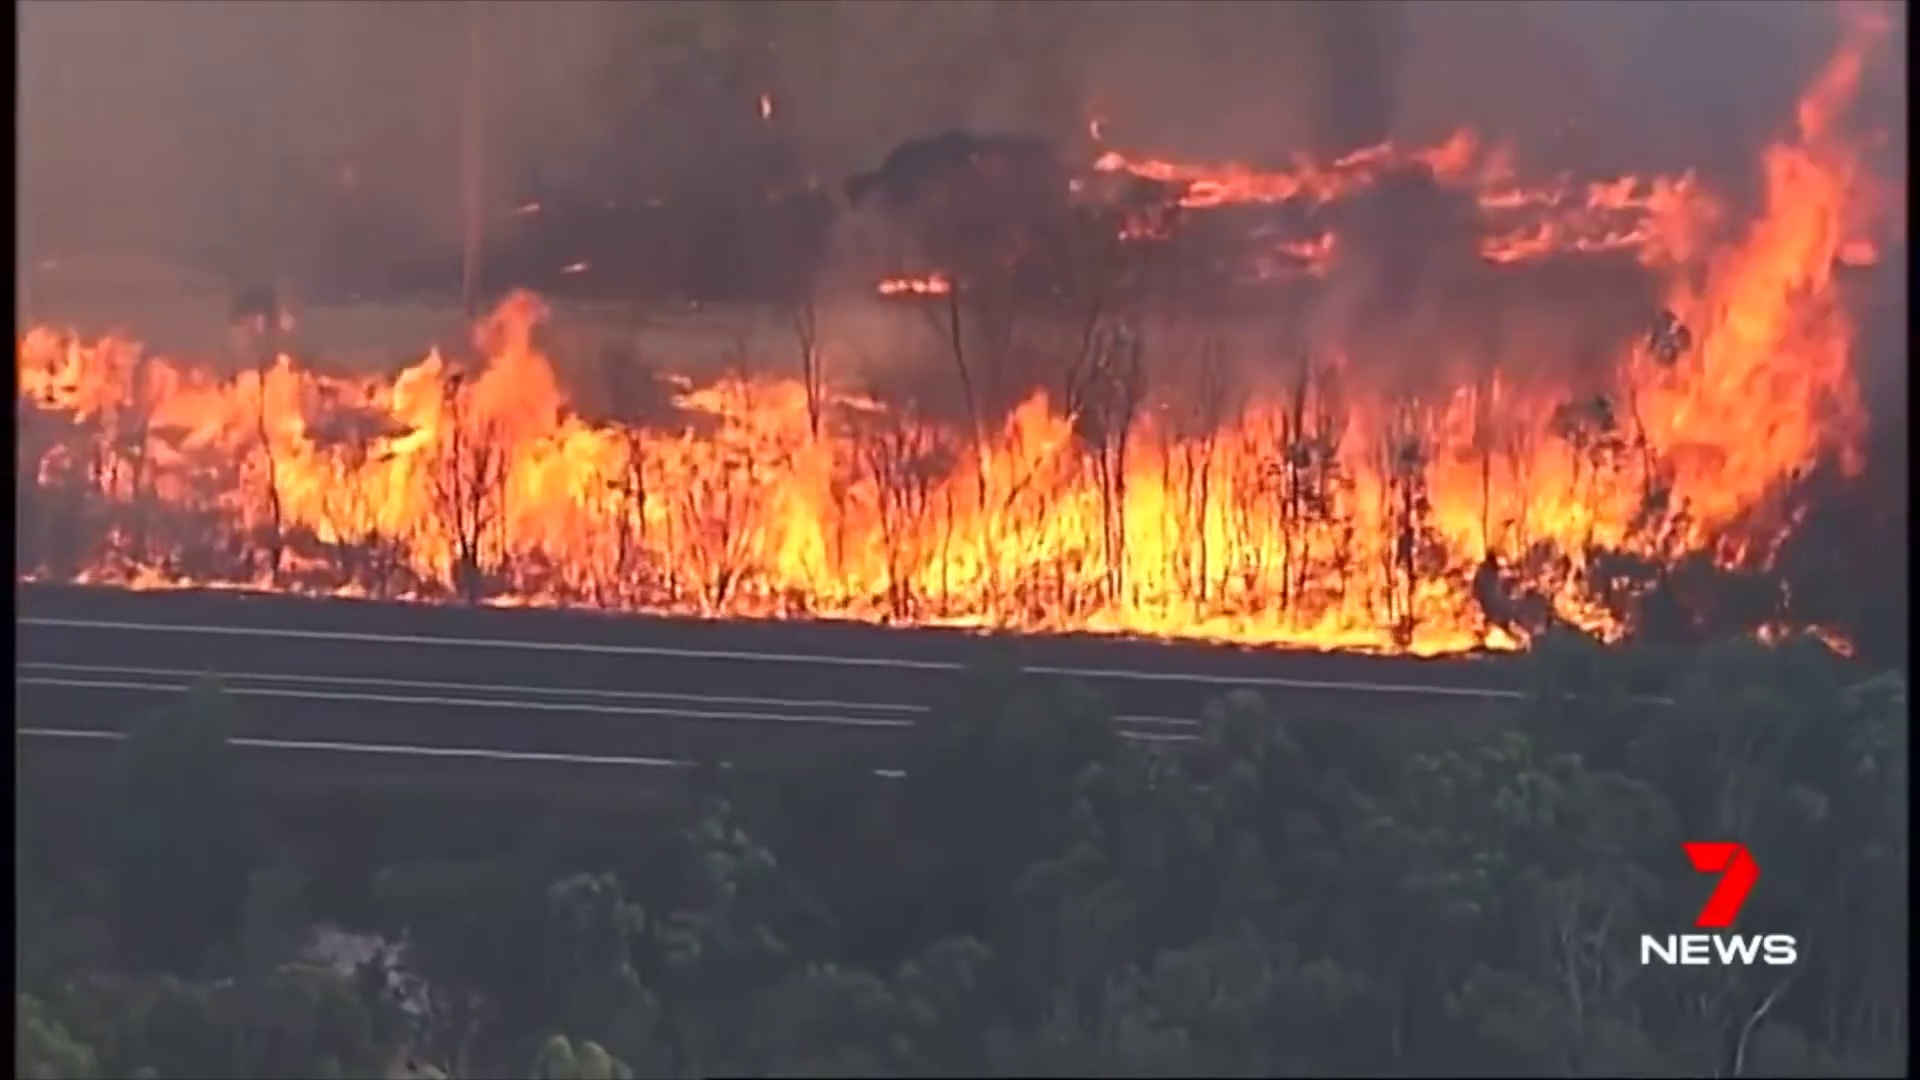fire: (24, 324, 1622, 644), (1630, 153, 1841, 496), (1182, 161, 1304, 203), (1429, 131, 1489, 183), (1490, 232, 1545, 258)
